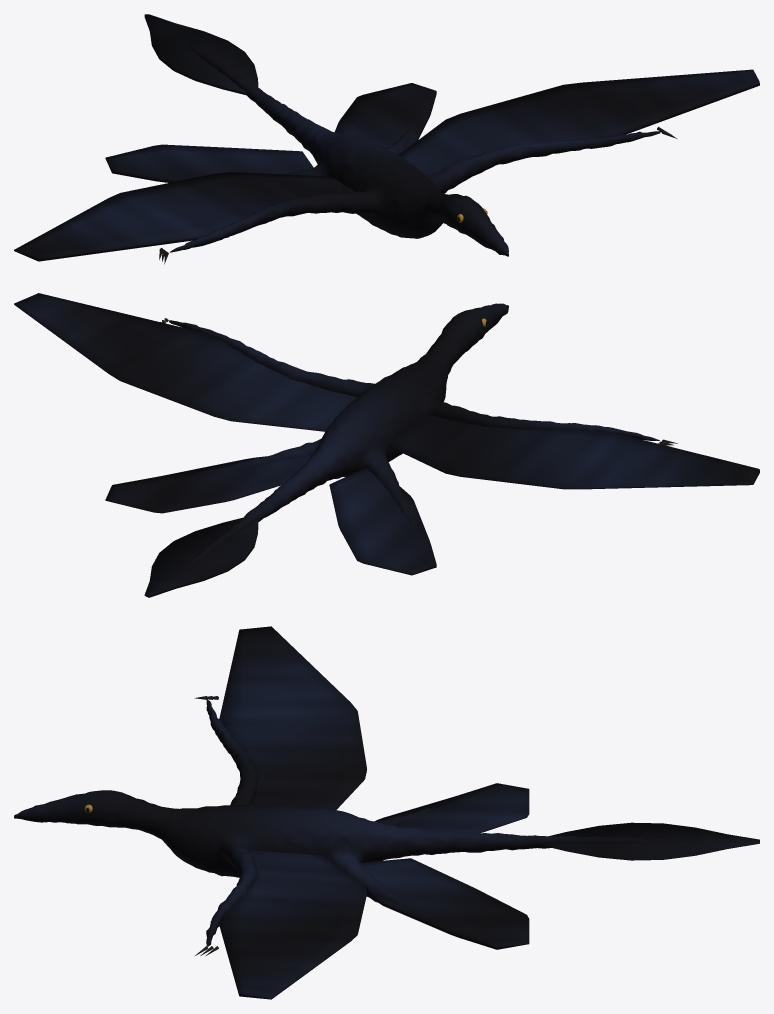
File: Microraptor.fbx
3 renders of one model, top to bottom at view 1: azimuth 30°, elevation 25°; view 2: azimuth 150°, elevation 25°; view 3: azimuth 270°, elevation 25°, orthographic. The views are drawn at different scales.
Visible parts, largest first — view 1: Microraptor; view 2: Microraptor; view 3: Microraptor.
Boxes of the visible parts, bbox=[...] form: Microraptor: bbox=[14, 14, 759, 264]; Microraptor: bbox=[14, 293, 759, 597]; Microraptor: bbox=[14, 626, 759, 999].
Bounding box in the file's own units: 1.64 × 0.1758 × 1.39.
